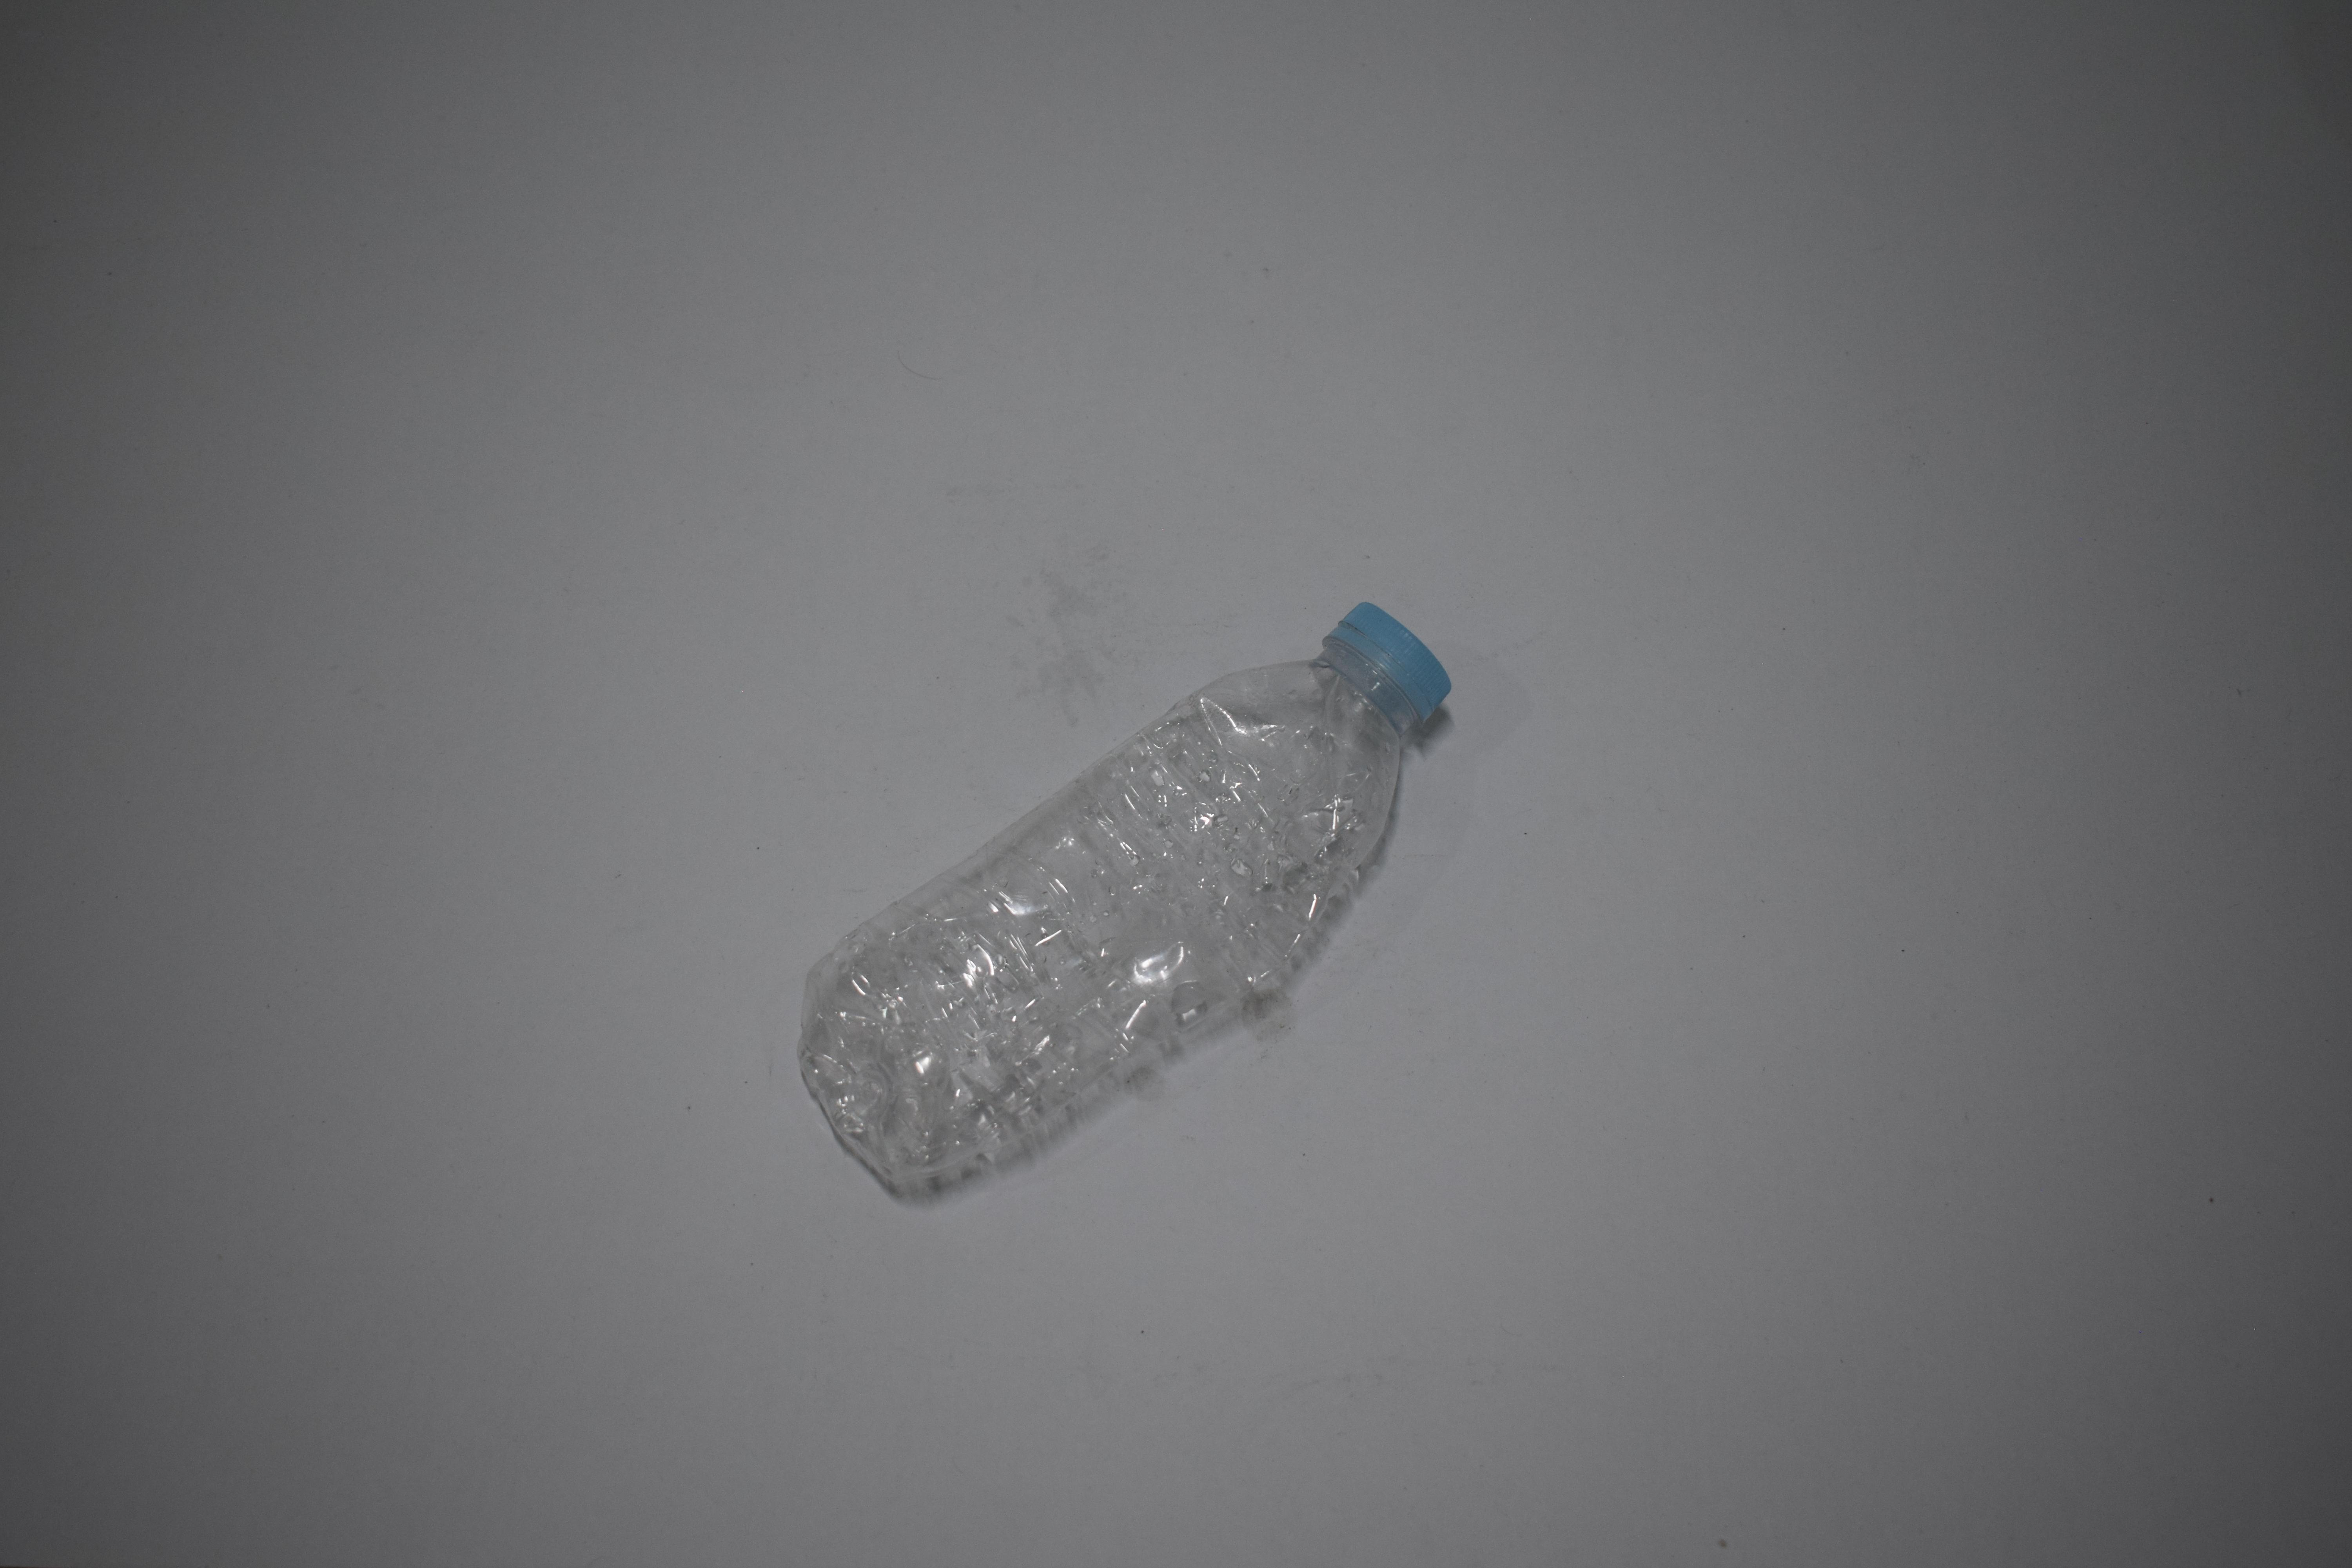bottle: (791, 0, 1458, 415)
